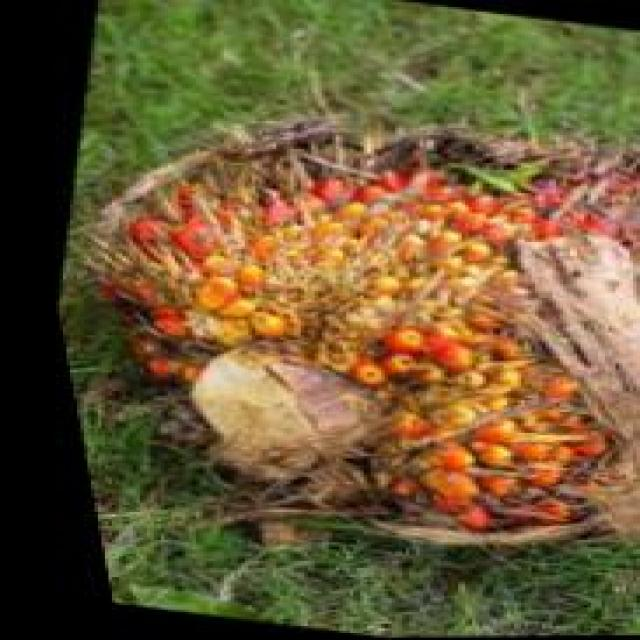Ripefruit: (10, 77, 640, 572)
